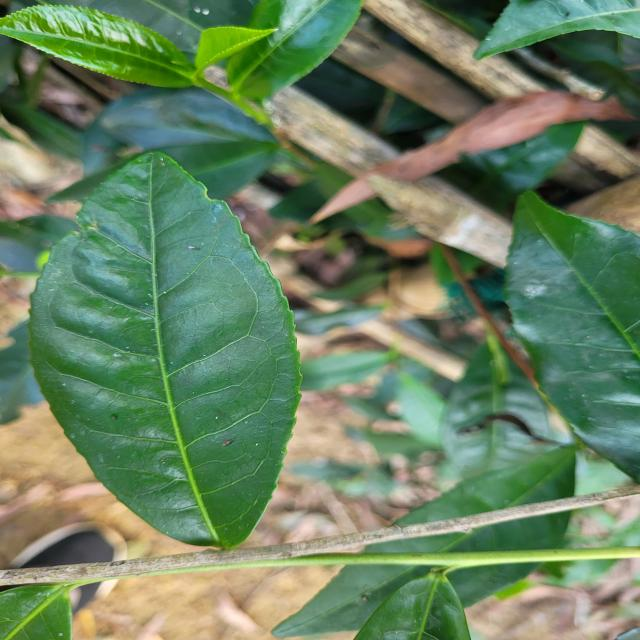Category D(7+ days, Not for Tea): (20, 138, 326, 554)
